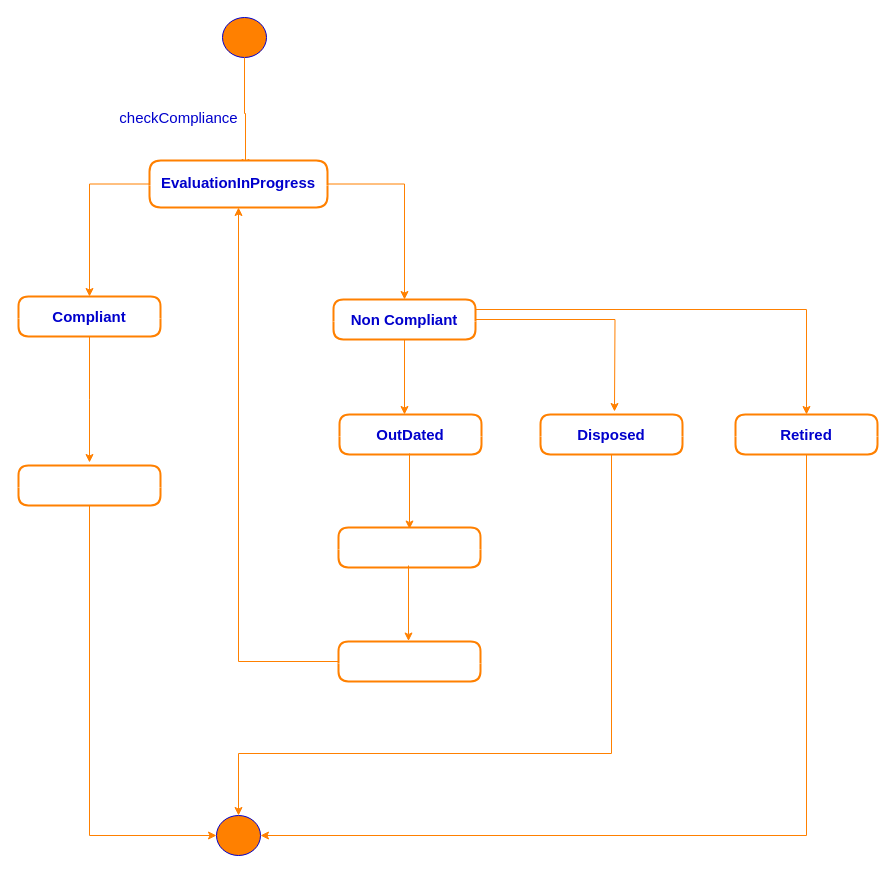
The diagram is 895 pixels wide and 873 high, and some of its shapes have lost their labels. The centre of each missing label's shape, as x and y in pixels:
Available: [89,485]
RepairCompleted: [409,661]
UnderRepair: [409,547]
